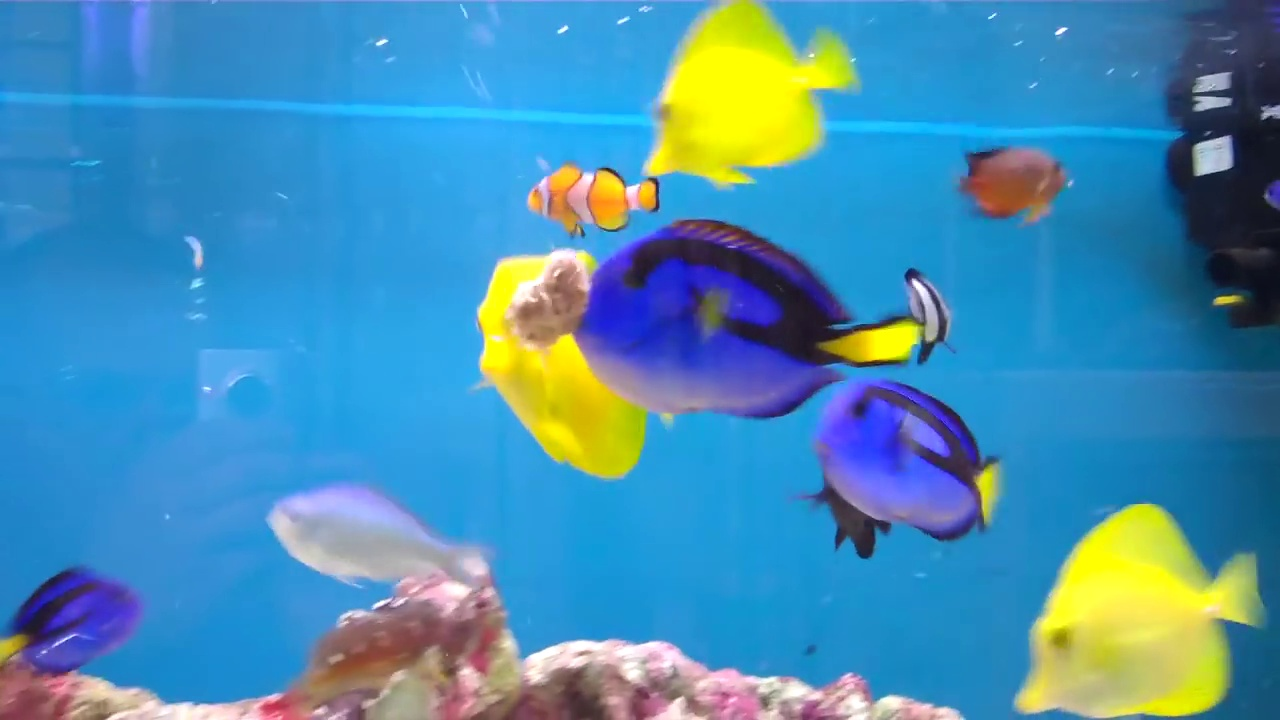blue tang surgeonfish: (564, 219, 923, 420), (812, 359, 1020, 555), (0, 543, 149, 694)
damselfish: (262, 467, 491, 590)
saddle butterfly fish: (985, 477, 1278, 720), (623, 0, 864, 198)
